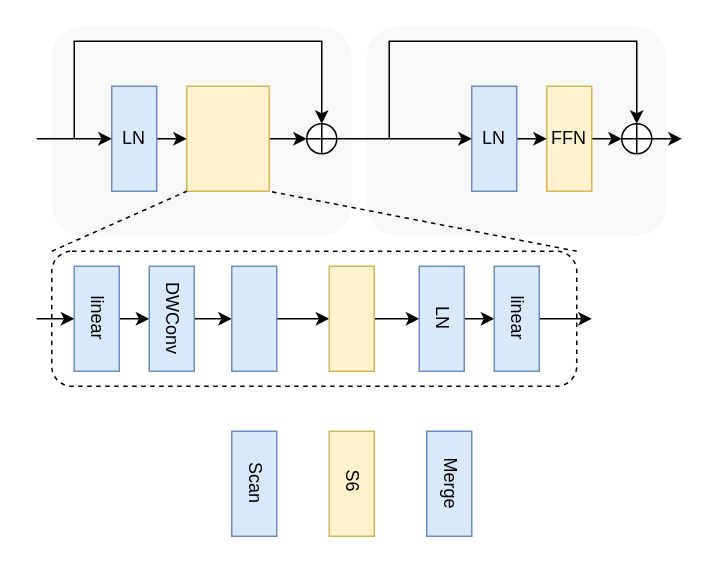
Some shapes in this 720 by 563 pixel diagram are drawn without their labels. The shapes that lost their labels are listed below. From the top down, each one's centre as x and y in pixels, then its label:
At point 227,138: "AUSS2D Block".
At point 253,318: "SiLU".
At point 351,318: "AUSS2D".
